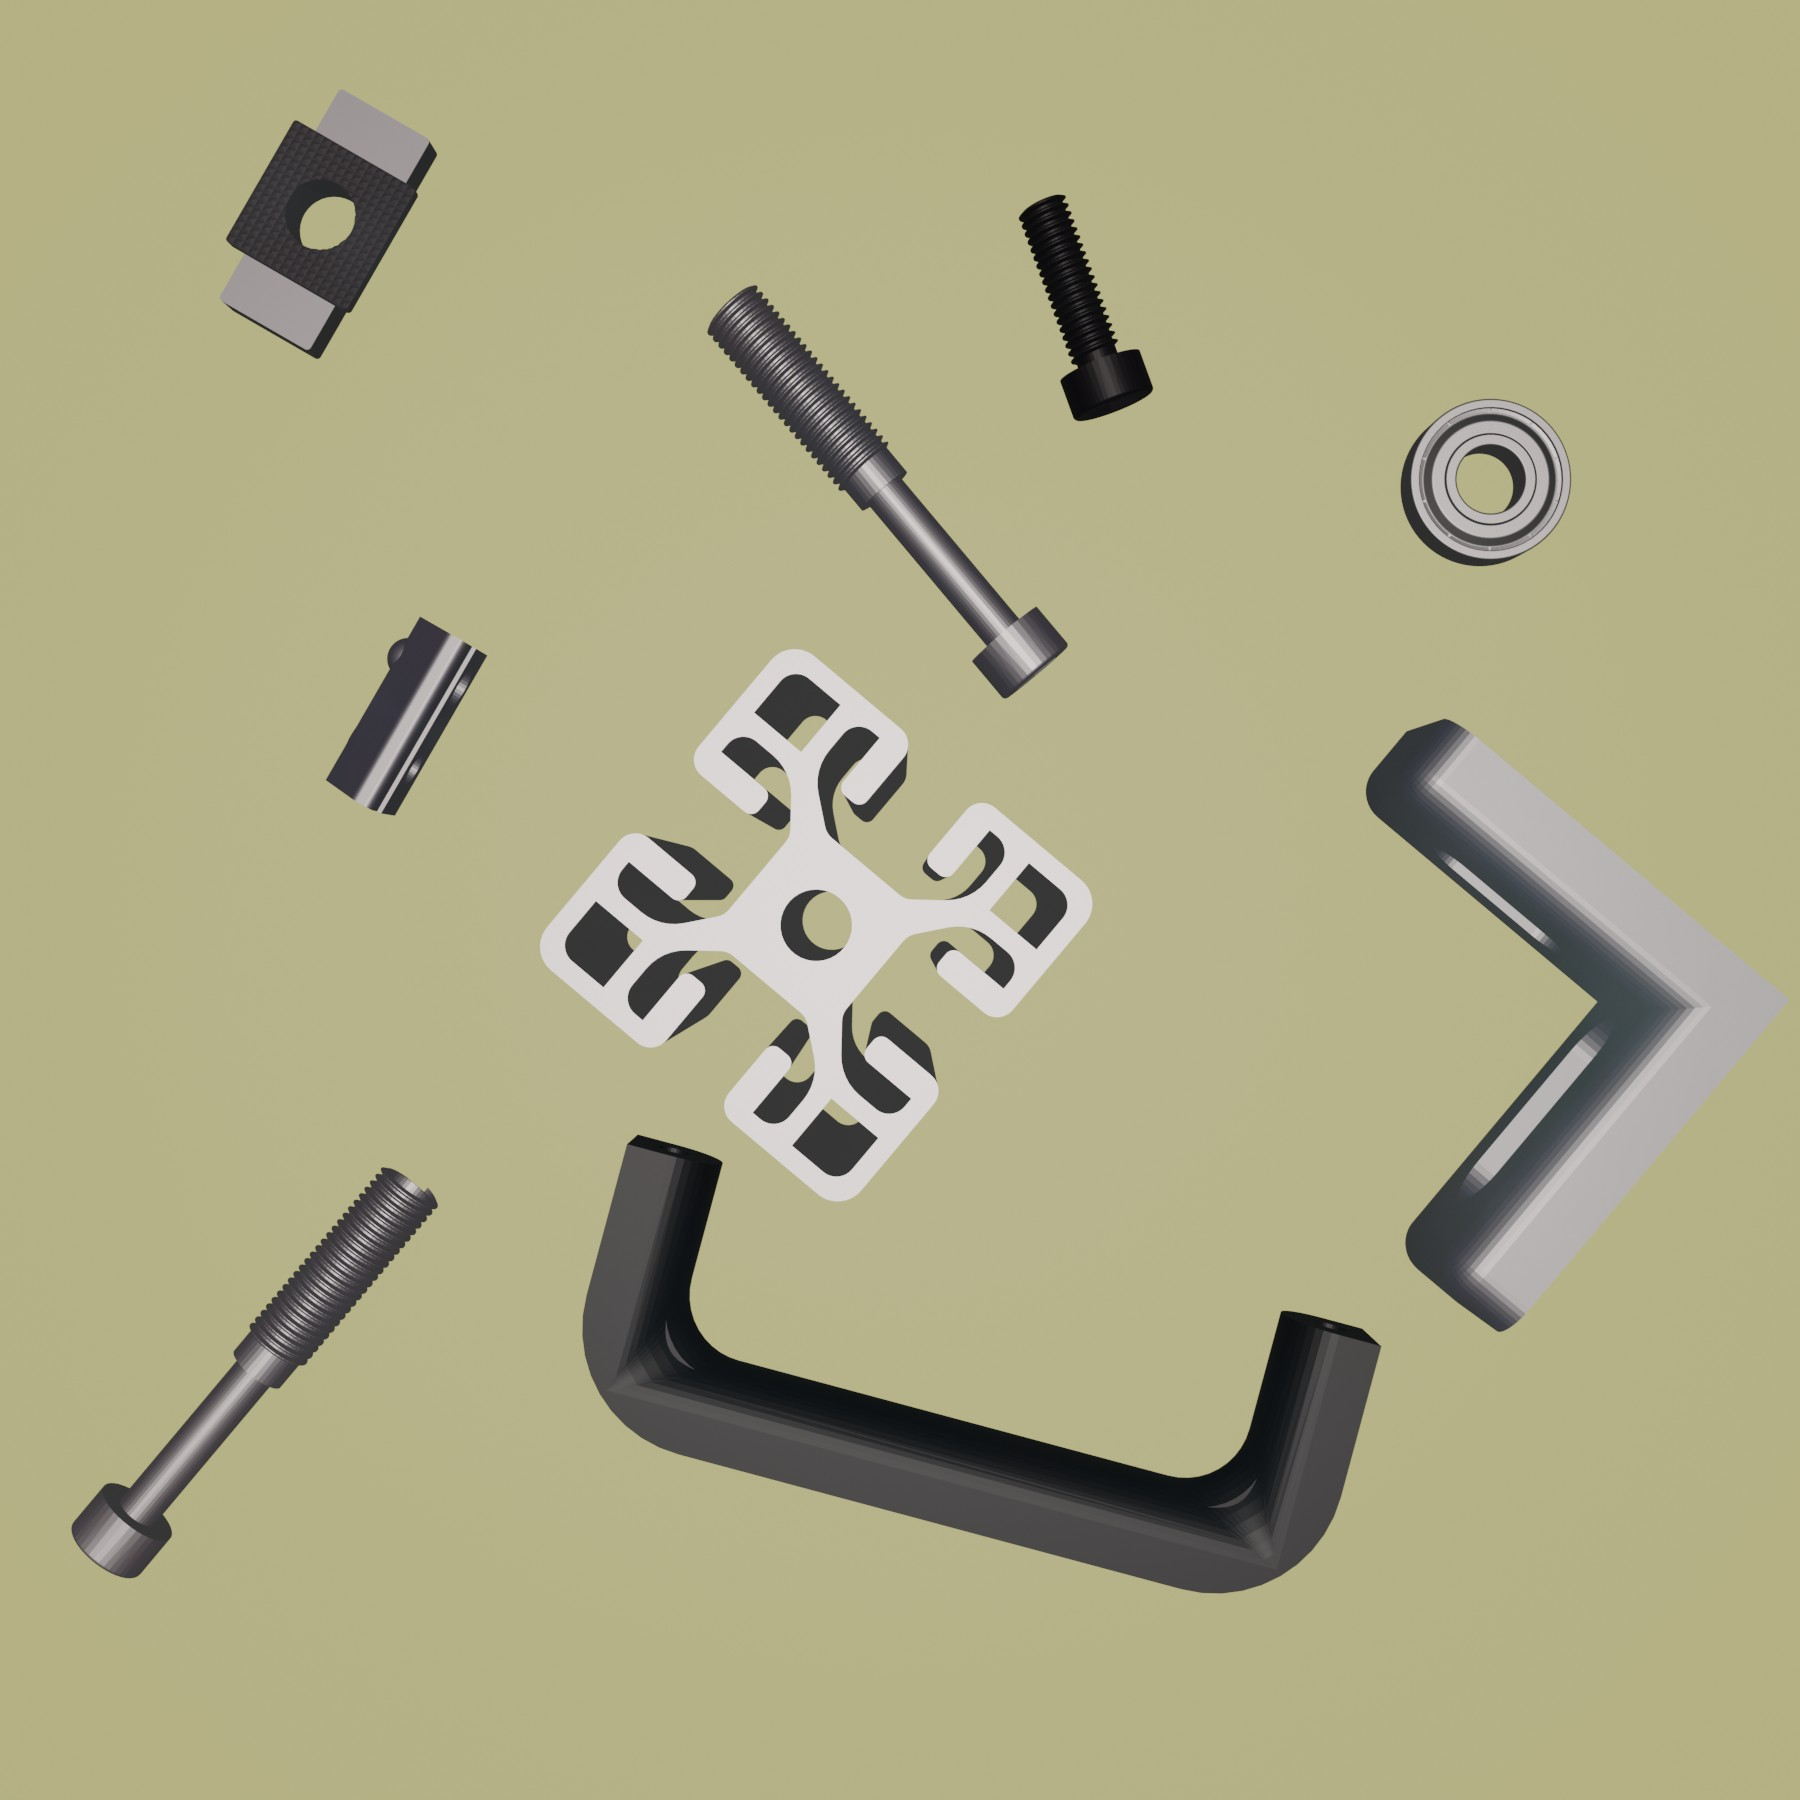Aluminium Extension: (536, 646, 1098, 1207)
Ball Bearing: (1398, 392, 1577, 570)
Multiwinkel: (1362, 715, 1787, 1337)
Pull Handle: (579, 1131, 1383, 1597)
Shoulder Socket Head Cap Screw: (71, 1164, 442, 1584), (702, 280, 1070, 702)
Socket Head Cap Screw: (1012, 190, 1154, 424)
T Nut Square: (214, 84, 440, 364)
T Spring Nut: (325, 613, 490, 819)
